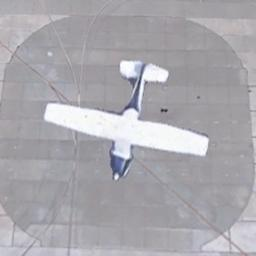Airplane: (43, 59, 209, 181)
